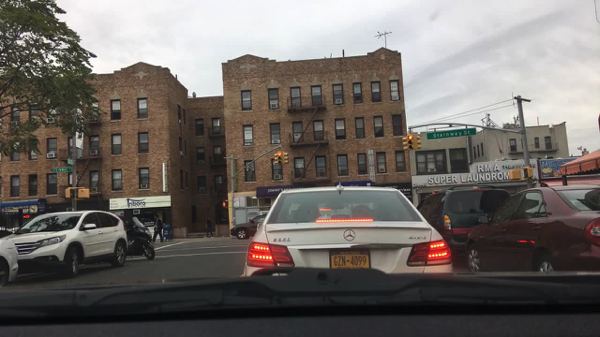car: (242, 181, 454, 277), (464, 184, 599, 275), (0, 195, 129, 279), (415, 184, 512, 259), (228, 213, 266, 240), (0, 237, 20, 287)
motor: (125, 215, 156, 261)
person: (150, 213, 164, 243), (204, 217, 215, 238)
traffic light: (508, 169, 521, 181), (522, 167, 533, 180), (415, 135, 423, 151), (407, 135, 414, 151), (402, 137, 408, 151), (277, 151, 282, 165), (284, 153, 289, 164), (222, 201, 228, 208), (274, 153, 277, 166)
traffic sign: (425, 127, 476, 140), (65, 188, 76, 200), (52, 167, 73, 173), (78, 188, 89, 199), (67, 158, 74, 166)
